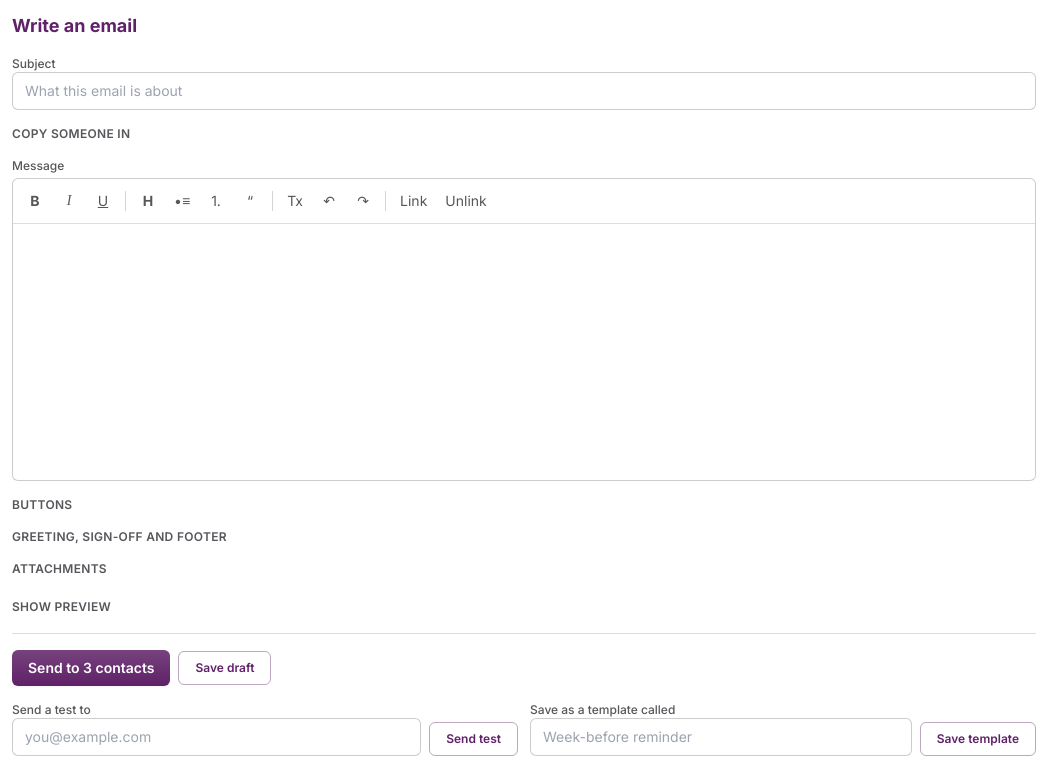
Test: what the server says › puts a rejected send's error on the field it is about
The image size is (1048, 775).
Click the button "Send to 3 contacts": (91, 668) [12,650,170,686]
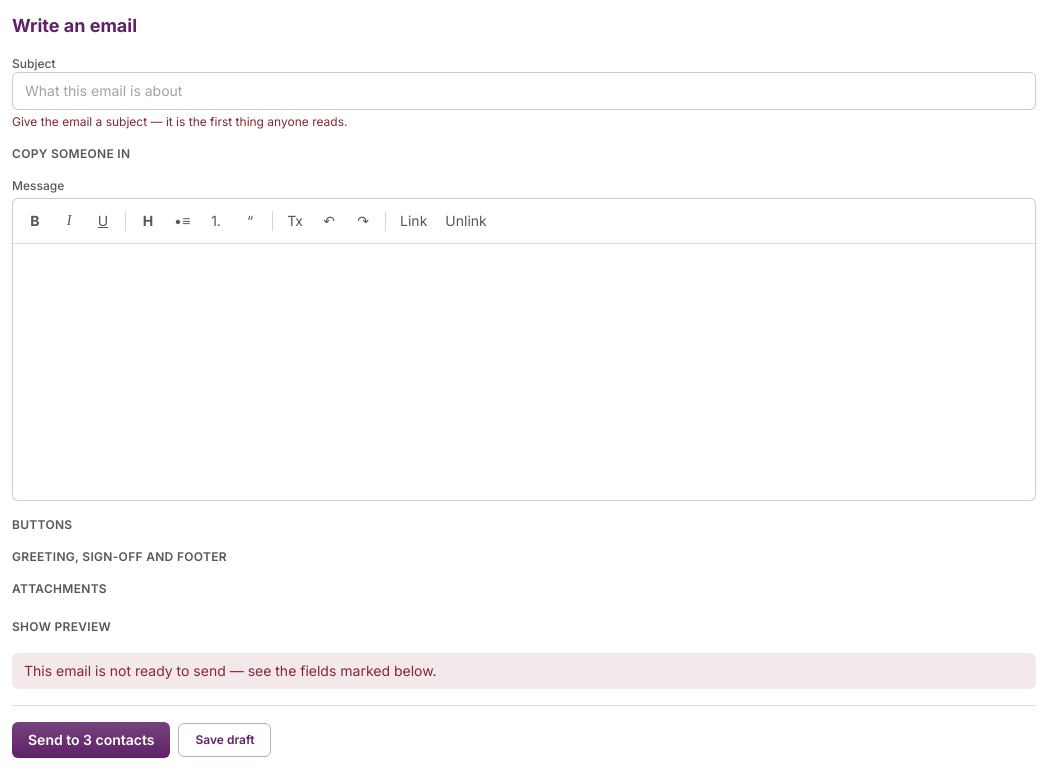
Check: the text "Give the email a subject — it is the first thing anyone reads." is shown, box [12,114,348,129]
